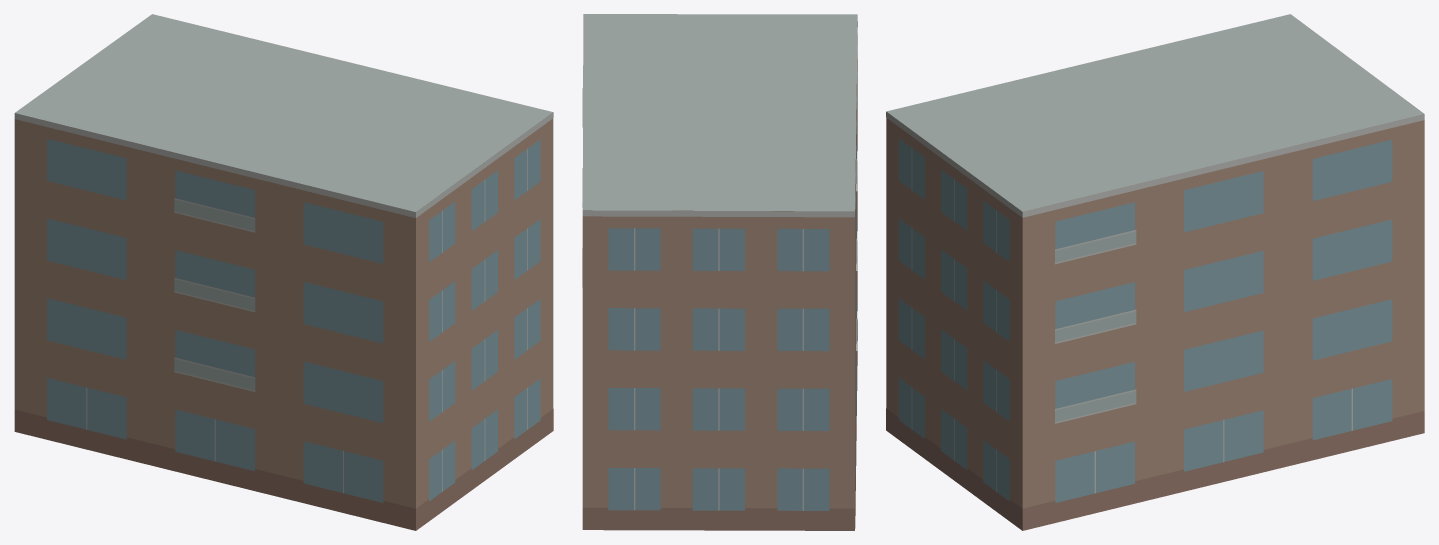
The model's file is survey-upis-32725819.glb.
3 renders of one model, left to right at view 1: azimuth 30°, elevation 25°; view 2: azimuth 150°, elevation 25°; view 3: azimuth 270°, elevation 25°, orthographic.
Visible parts, largest first — view 1: survey-upis-32725819.tmp; view 2: survey-upis-32725819.tmp; view 3: survey-upis-32725819.tmp.
Part boxes in pixels (x1,y1,x2,y2): survey-upis-32725819.tmp: (14,14,553,530); survey-upis-32725819.tmp: (582,14,857,530); survey-upis-32725819.tmp: (886,14,1424,530).
Bounding box in the file's own units: 17.3 × 13 × 19.9.
